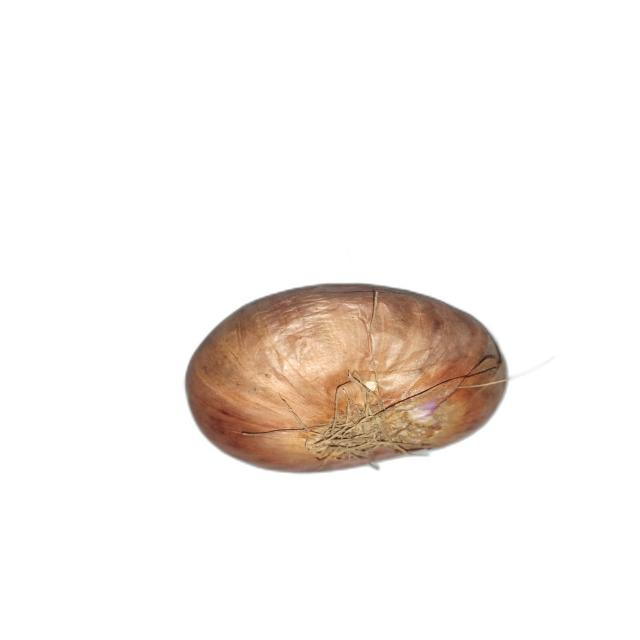onion: (182, 283, 510, 473)
